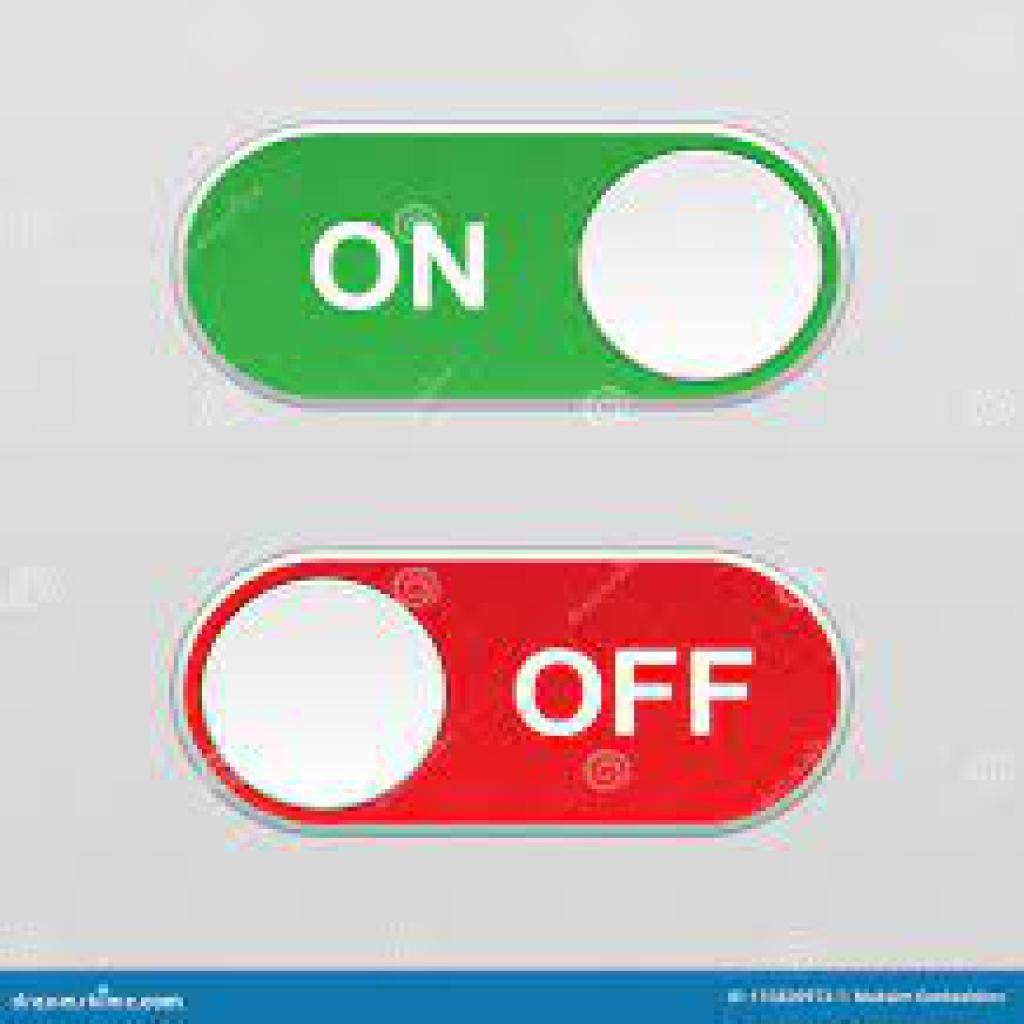switch: (168, 546, 852, 838), (174, 123, 854, 410)
